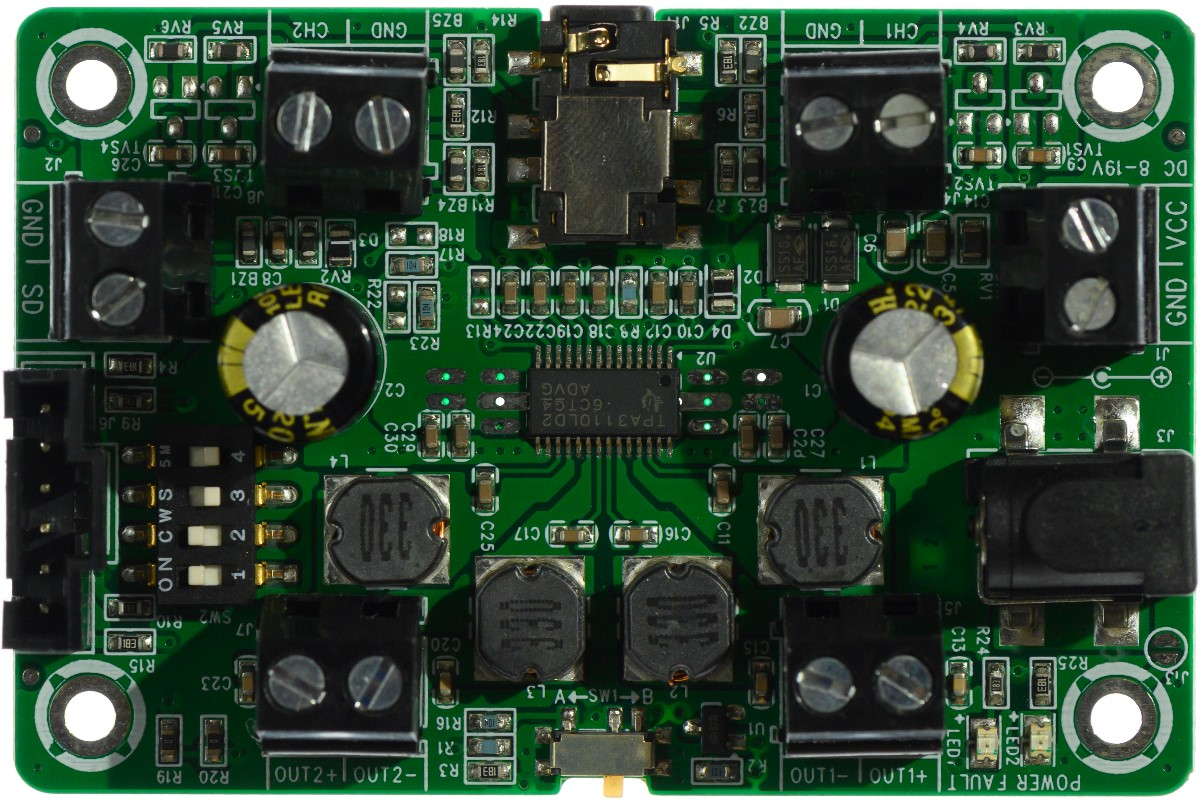Induktor: (759, 475, 888, 586), (322, 475, 448, 584), (622, 556, 731, 679), (477, 554, 583, 679)
